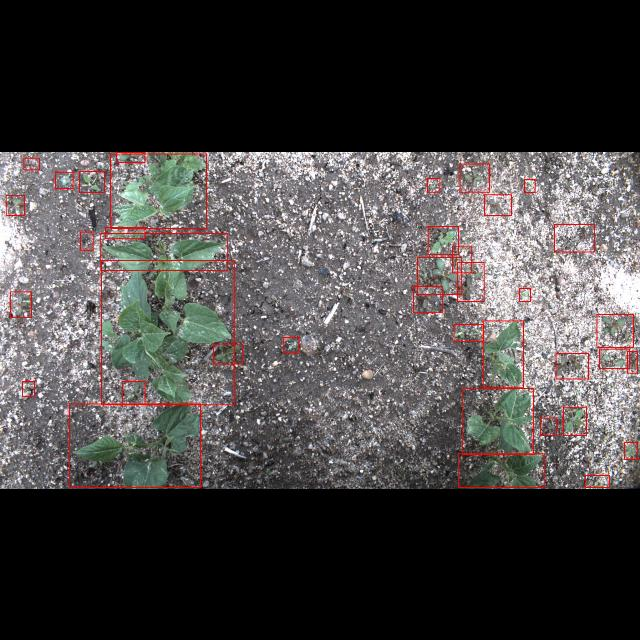crop: (102, 260, 235, 404), (70, 403, 200, 487), (110, 152, 206, 228), (100, 232, 228, 270), (462, 388, 534, 454), (458, 453, 544, 487), (483, 320, 523, 386)
weed: (418, 256, 462, 294), (597, 314, 633, 346), (554, 223, 594, 251), (458, 262, 484, 300), (460, 163, 490, 191), (428, 226, 458, 254), (556, 353, 588, 379), (413, 286, 442, 312), (564, 406, 586, 436), (600, 348, 630, 368), (484, 193, 512, 214), (214, 343, 242, 363), (452, 245, 472, 272), (80, 170, 104, 192), (10, 292, 32, 316), (123, 380, 145, 404), (454, 324, 484, 341), (105, 226, 145, 238), (6, 194, 24, 214), (55, 170, 73, 188), (584, 475, 610, 487), (540, 417, 556, 435), (117, 151, 145, 161), (284, 337, 298, 353), (624, 442, 638, 458), (627, 351, 637, 373), (80, 231, 92, 249), (22, 380, 34, 396), (24, 157, 38, 169), (428, 177, 440, 191), (525, 178, 535, 192), (520, 288, 530, 300)
